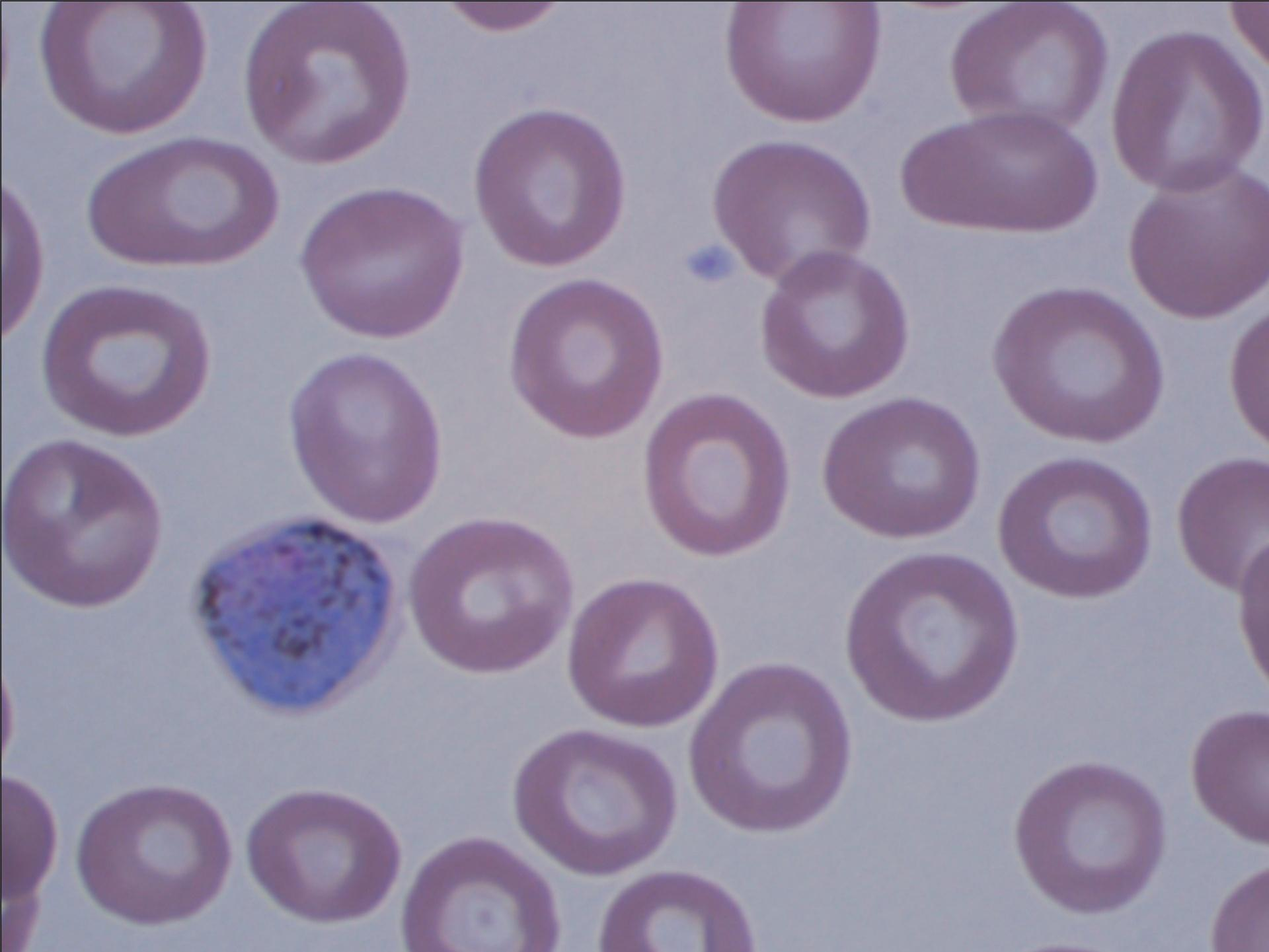Infected: (189, 523, 419, 714)
Uninfected: (849, 556, 1013, 717), (3, 442, 157, 607), (295, 357, 439, 530), (693, 669, 849, 828), (248, 5, 407, 161), (304, 184, 466, 335), (46, 287, 207, 435), (997, 290, 1157, 438), (414, 520, 568, 671), (92, 139, 274, 266), (902, 114, 1096, 233), (471, 113, 624, 262), (512, 281, 658, 433), (517, 731, 672, 874), (1114, 34, 1258, 187), (644, 396, 785, 550), (826, 400, 977, 538), (78, 787, 229, 922), (46, 3, 204, 132), (570, 582, 713, 724), (762, 251, 904, 394), (1017, 767, 1161, 908), (716, 144, 866, 276), (247, 792, 399, 922), (1001, 463, 1147, 595), (1132, 176, 1269, 316), (952, 4, 1104, 122), (728, 4, 876, 120), (403, 840, 555, 951)
